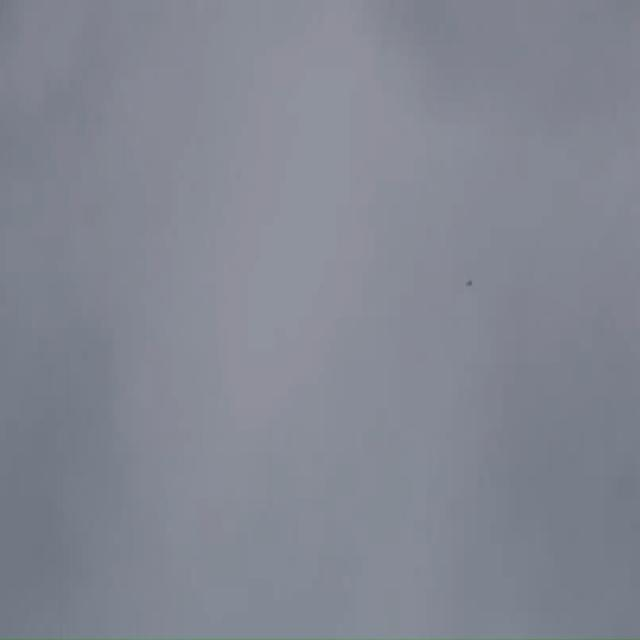Rocket: (466, 280, 472, 286)
